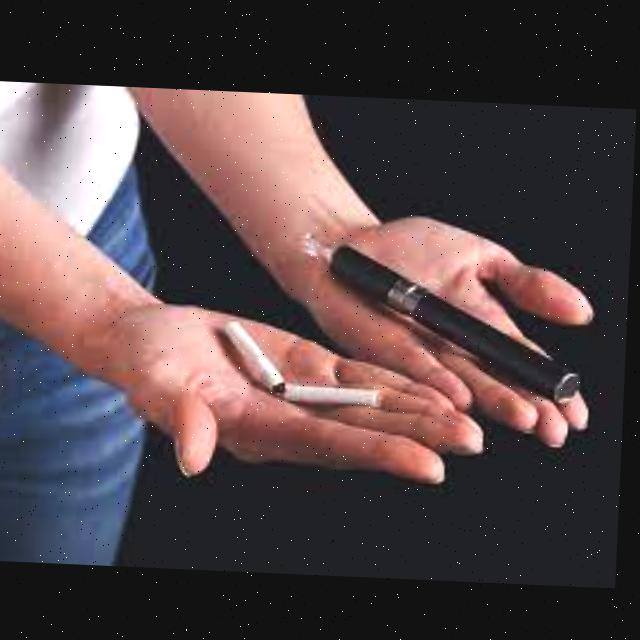cigarette: (224, 318, 290, 393), (288, 381, 386, 401)
vape: (320, 234, 591, 405)
